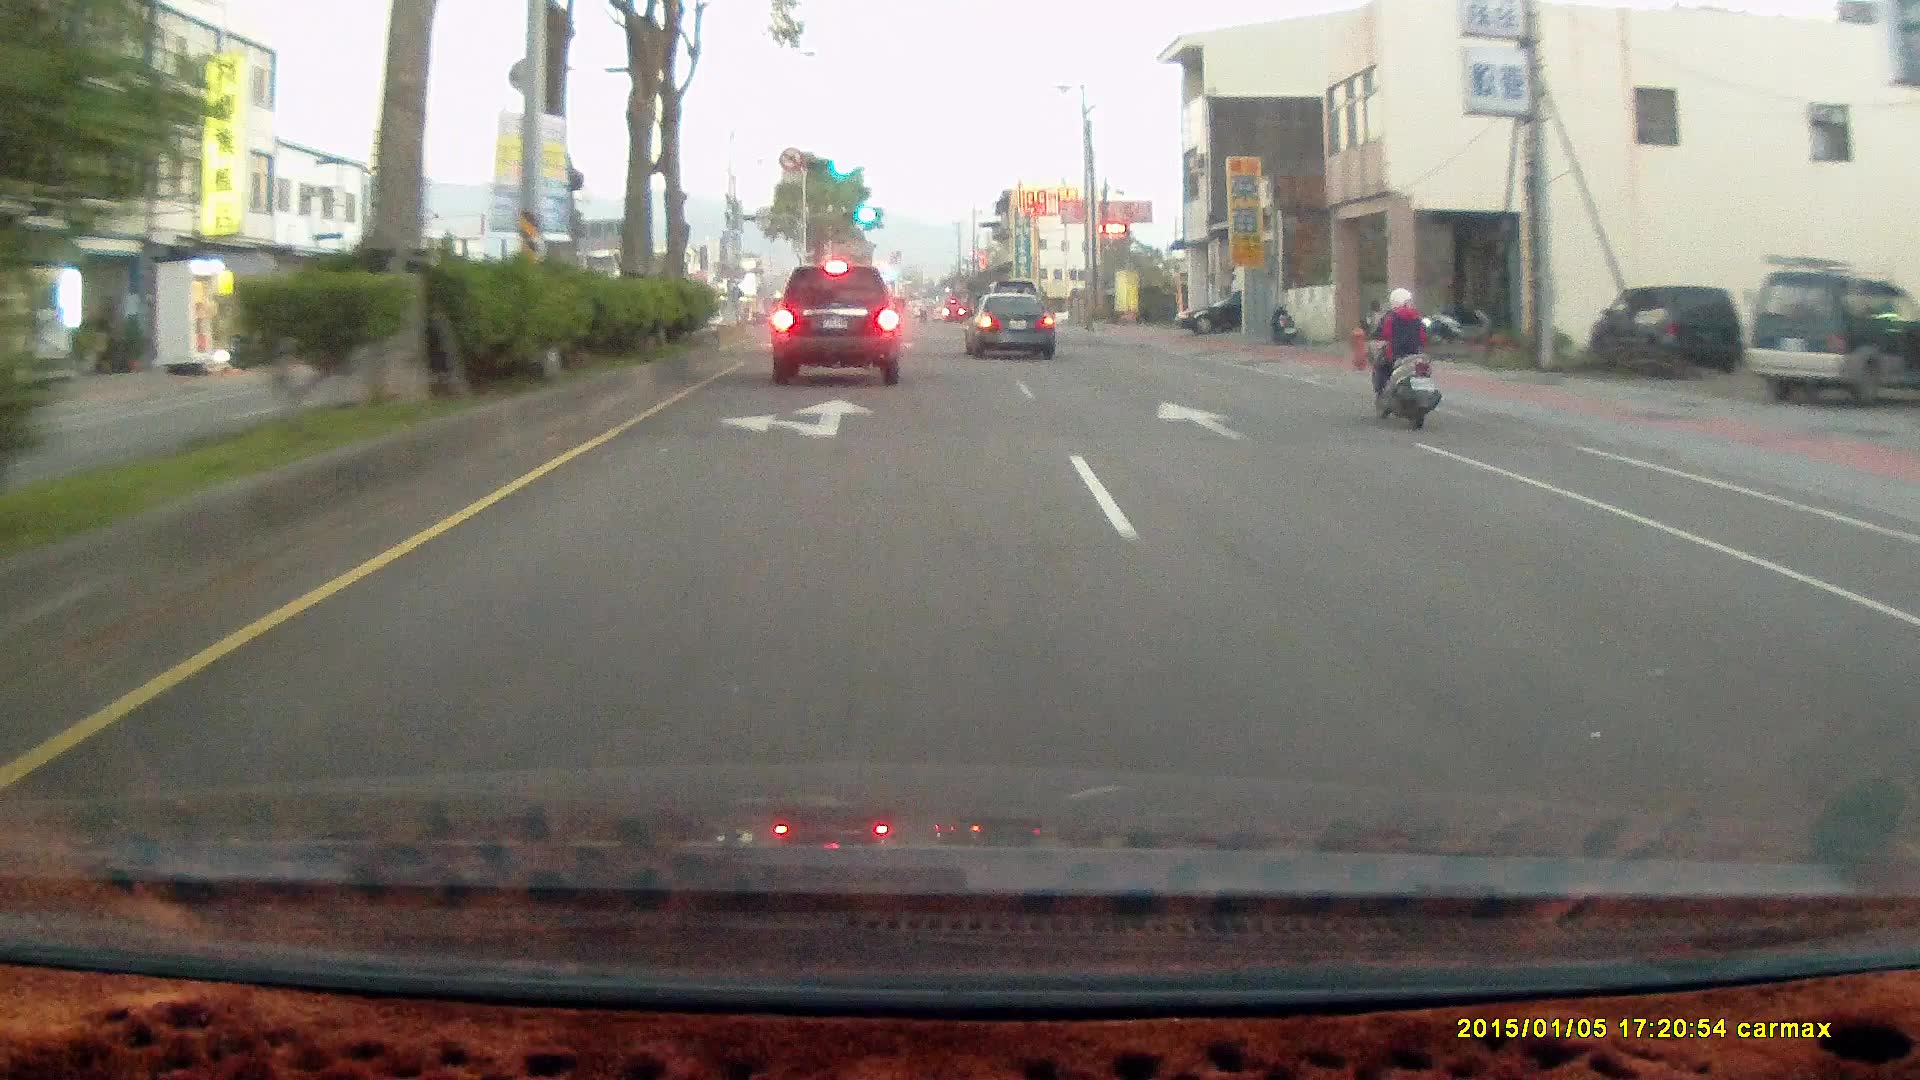rider: (1350, 272, 1455, 442), (1362, 283, 1441, 428)
vehicle: (1743, 270, 1920, 405), (1751, 272, 1905, 404), (765, 258, 908, 385), (772, 264, 905, 386), (1588, 282, 1741, 376), (1589, 282, 1741, 374), (963, 293, 1059, 361), (964, 291, 1052, 357), (1175, 289, 1290, 337), (1175, 289, 1246, 338)
